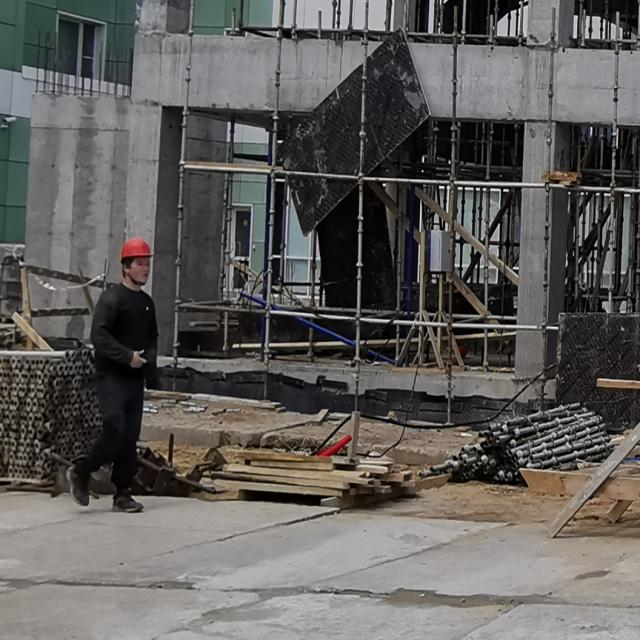Helmet: (121, 239, 154, 289)
